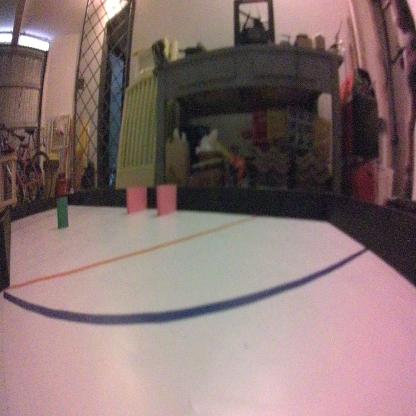green: (54, 194, 70, 230)
magenta: (155, 183, 176, 218), (126, 184, 146, 215)
